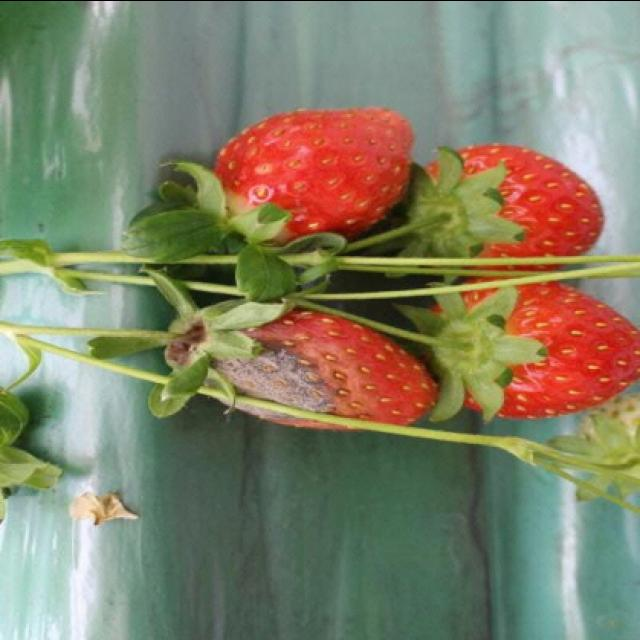Gray Mold: (210, 334, 338, 428)
